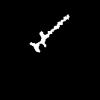double_crochet: (30, 15, 68, 51)
